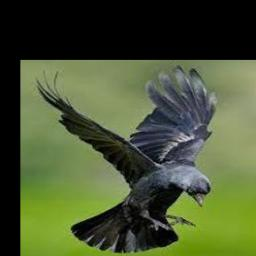Crow: (33, 65, 216, 252)
